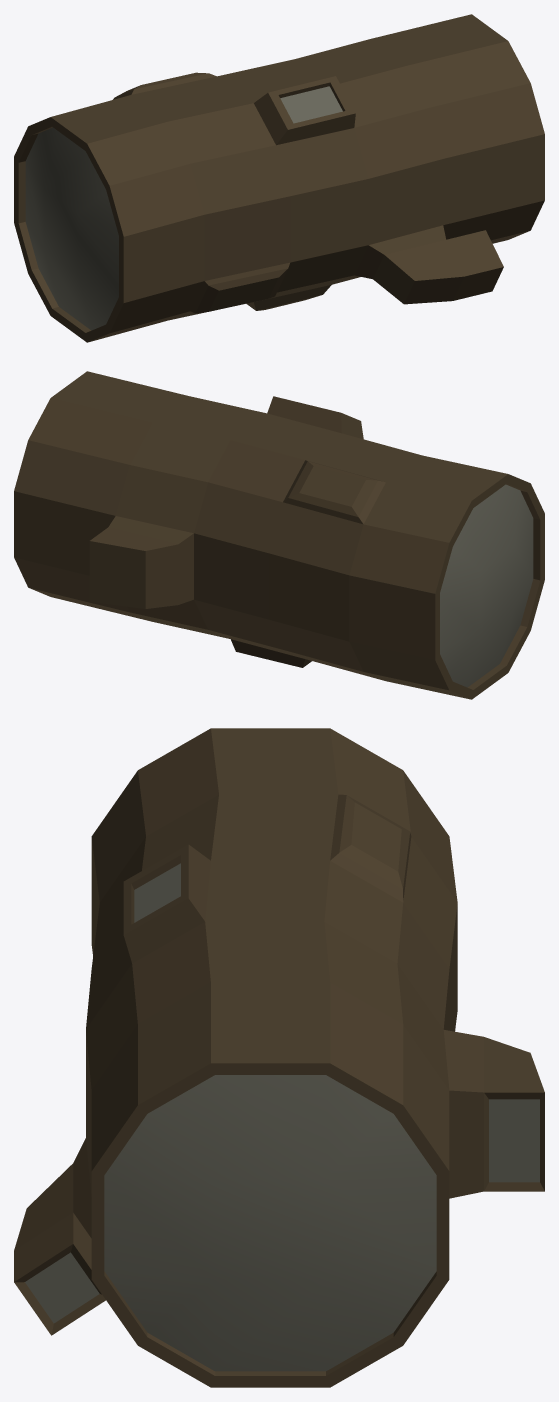
The model's file is Log_Fruit_tree.fbx.
The picture shows the model from 3 angles, top to bottom: view 1: azimuth 30°, elevation 25°; view 2: azimuth 150°, elevation 25°; view 3: azimuth 270°, elevation 25°; orthographic projection. The views are drawn at different scales.
Parts seen in each view (by area): view 1: Main, Cap_1; view 2: Main, Cap_1; view 3: Main, Cap_2.
Boxes of the visible parts, x1,y1,x2,y2 form: Main: (14,14,544,342); Cap_1: (25,127,118,330); Main: (14,371,544,699); Cap_1: (440,484,533,687); Main: (14,728,544,1387); Cap_2: (104,1075,436,1371).
Bounding box in the file's own units: 162 × 82.04 × 105.
